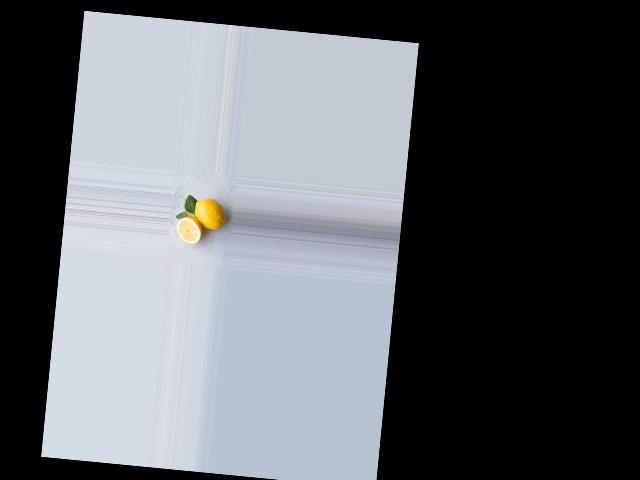lemon: (190, 194, 227, 230)
